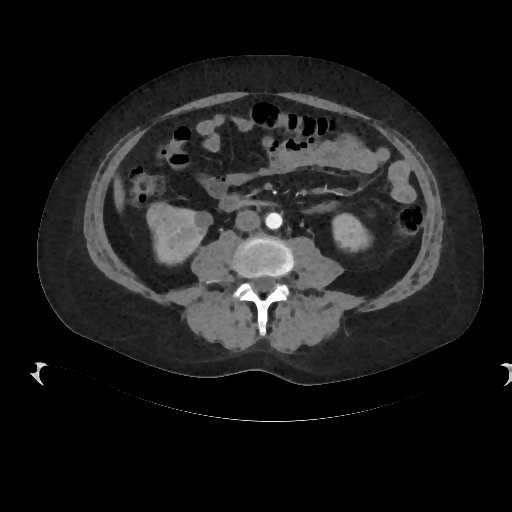Lesion: (145, 200, 179, 239)
